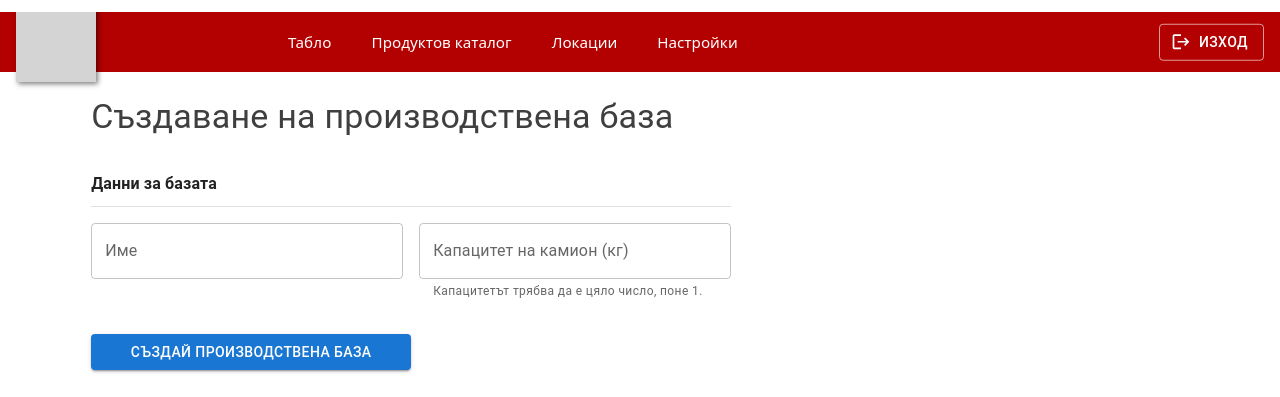
Test case: Create source location page › blocks submission and reports validation errors when the fields are empty
What coordinates should you click on to do the following:
click the button "Създай производствена база"
I would click on:
 (251, 352)
Its box is [91,334,411,370].
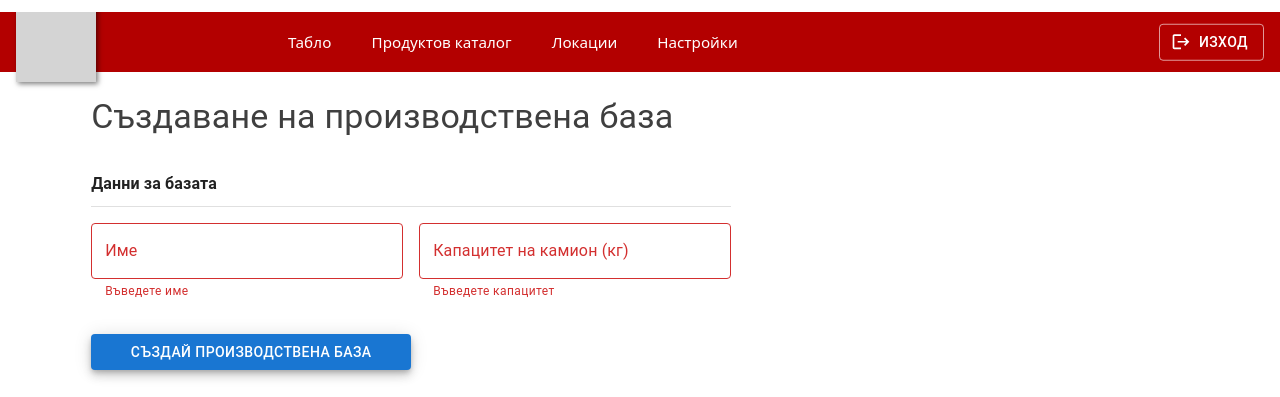
Expected: the text "Въведете име" is shown, [105,284,188,298]
Expected: the text "Въведете капацитет" is shown, [433,284,555,298]
